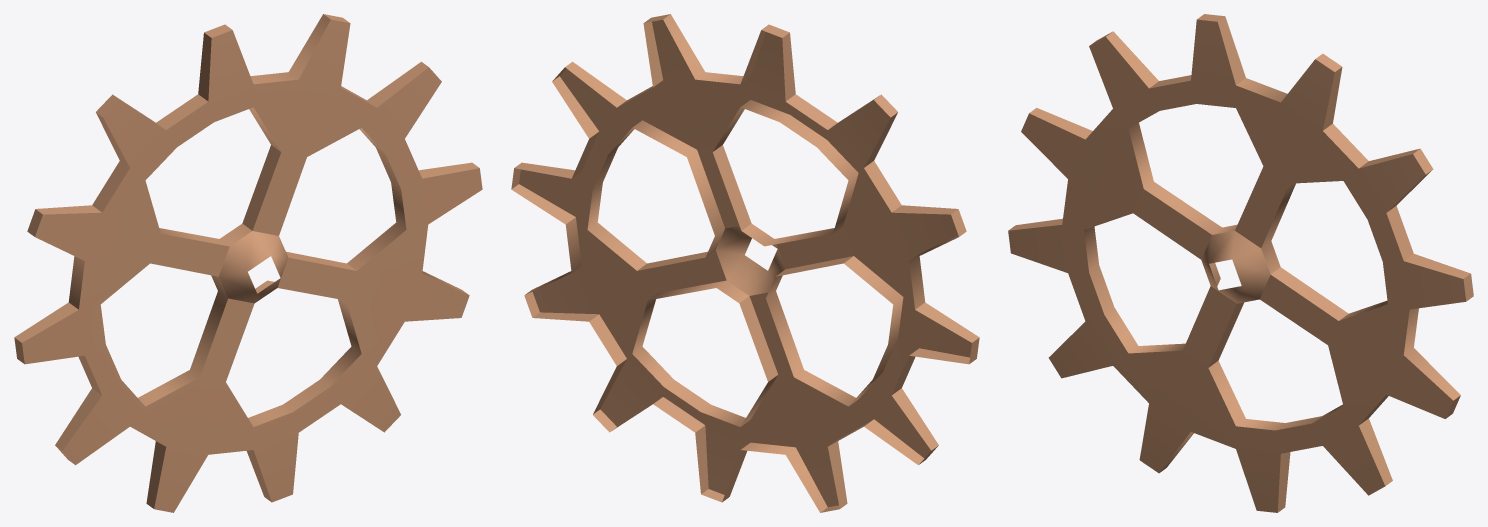
The model's file is cog_02.fbx.
The picture shows the model from 3 angles, left to right: view 1: azimuth 30°, elevation 25°; view 2: azimuth 150°, elevation 25°; view 3: azimuth 330°, elevation 25°; orthographic projection.
Visible parts, largest first — view 1: cog_02; view 2: cog_02; view 3: cog_02.
Boxes of the visible parts, bbox=[...] form: cog_02: bbox=[14, 14, 482, 512]; cog_02: bbox=[511, 14, 979, 512]; cog_02: bbox=[1008, 14, 1473, 512].
Bounding box in the file's own units: 182 × 182 × 14.22.
